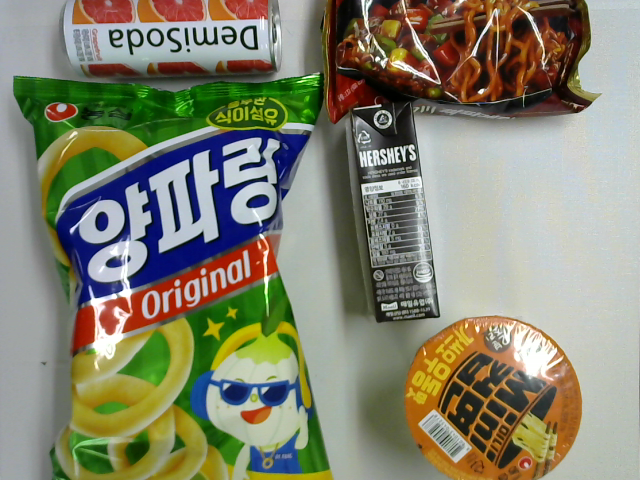Demisoda_Grapefruit_Can_250ml: (58, 1, 284, 83)
Hush_Choco_Drink: (347, 93, 445, 327)
Oninon_Ring: (12, 68, 330, 479)
Sichuan_Chapaghetti: (317, 1, 606, 125)
Udongmini: (402, 318, 581, 480)
